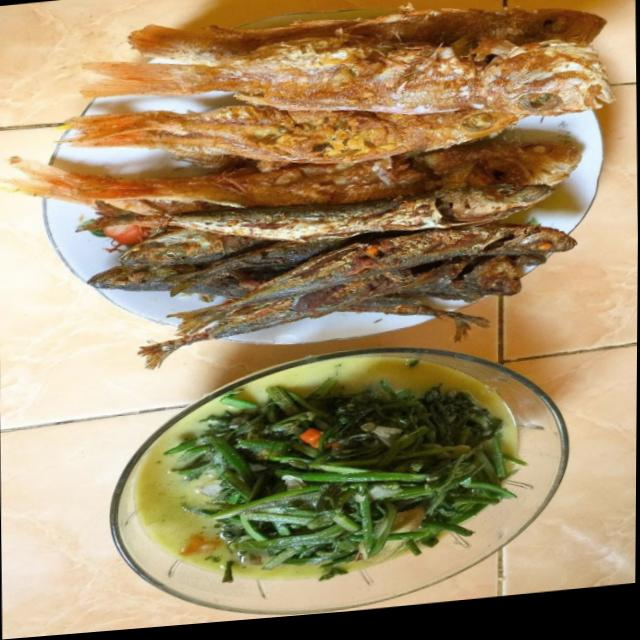ikan goreng: (75, 15, 620, 164), (135, 226, 587, 377), (22, 139, 593, 236), (64, 82, 528, 192), (121, 0, 607, 103), (126, 180, 560, 259)
kangkung: (158, 378, 531, 606)
